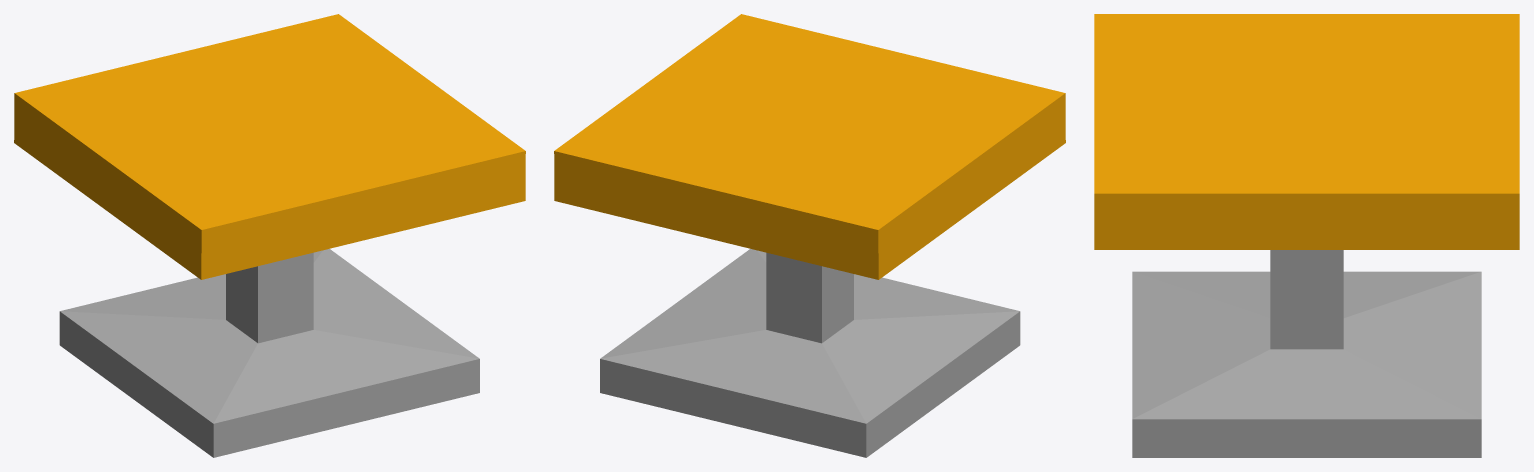
File: ChairSimple.fbx
3 views of the same model, side by side, from view 1: azimuth 30°, elevation 25°; view 2: azimuth 150°, elevation 25°; view 3: azimuth 270°, elevation 25° (orthographic). The views are drawn at different scales.
Parts seen in each view (by area): view 1: ChairSimple.001; view 2: ChairSimple.001; view 3: ChairSimple.001.
Part boxes in pixels (x1,y1,x2,y2): ChairSimple.001: [14, 14, 525, 457]; ChairSimple.001: [554, 14, 1065, 457]; ChairSimple.001: [1094, 14, 1519, 457].
Bounding box in the file's own units: 0.6566 × 0.4777 × 0.656.
